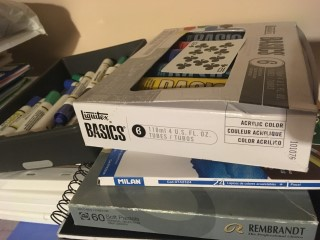TenOfClubs: (160, 38, 247, 73)
